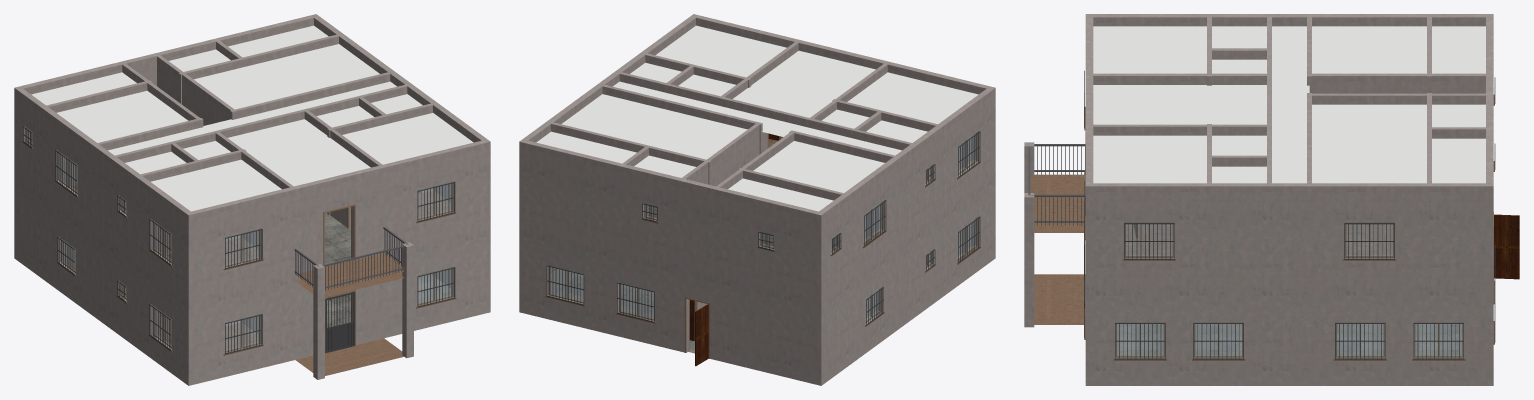
Rendered from duplex_interior.glb.
The picture shows the model from 3 angles, left to right: view 1: azimuth 30°, elevation 25°; view 2: azimuth 150°, elevation 25°; view 3: azimuth 270°, elevation 25°; orthographic projection. The views are drawn at different scales.
Parts seen in each view (by area): view 1: duplex_interior_static, ceiling_mesh, door_f0_hall_porch_security_mesh; view 2: duplex_interior_static, ceiling_mesh, door_f0_backhall_out_mesh; view 3: duplex_interior_static, ceiling_mesh, door_f0_backhall_out_mesh.
Boxes of the visible parts, x1=… form: duplex_interior_static: x1=14, y1=14, x2=490, y2=385; ceiling_mesh: x1=31, y1=25, x2=473, y2=211; door_f0_hall_porch_security_mesh: x1=325, y1=291, x2=355, y2=353; duplex_interior_static: x1=519, y1=14, x2=995, y2=385; ceiling_mesh: x1=536, y1=25, x2=978, y2=211; door_f0_backhall_out_mesh: x1=695, y1=304, x2=708, y2=366; duplex_interior_static: x1=1024, y1=14, x2=1495, y2=385; ceiling_mesh: x1=1093, y1=26, x2=1485, y2=183; door_f0_backhall_out_mesh: x1=1494, y1=214, x2=1519, y2=279.
Size of the model in its own units: 12.33 by 6.6 by 14.85.
17 materials, 11 textured.
